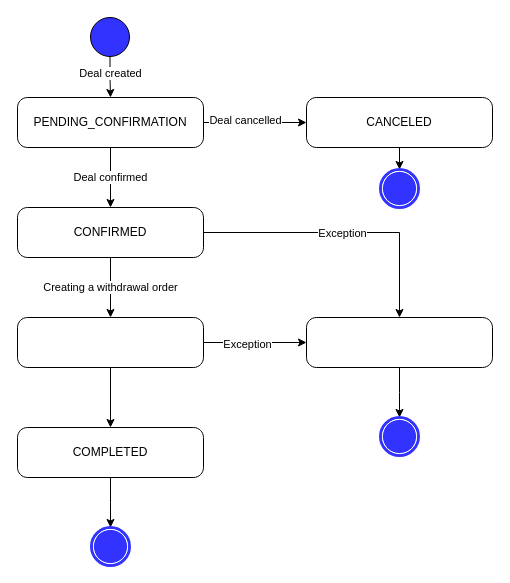
The diagram is 510 pixels wide and 583 high, and some of its shapes have lost their labels. Each missing label, with the box of its shape:
FAILED: (306, 316, 492, 368)
IN_PROGRESS: (16, 316, 204, 368)
